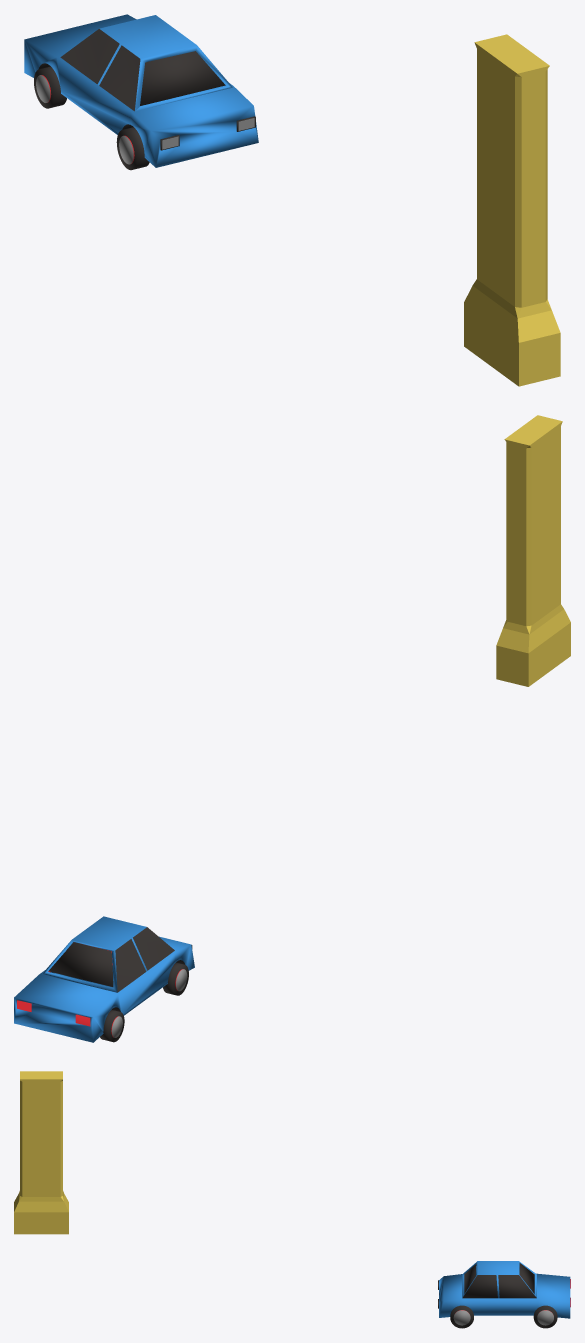
File: BlueCarGarageColuna.fbx
The picture shows the model from 3 angles, top to bottom: view 1: azimuth 30°, elevation 25°; view 2: azimuth 150°, elevation 25°; view 3: azimuth 270°, elevation 25°; orthographic projection. The views are drawn at different scales.
Visible parts, largest first — view 1: Cube.001, Cubo; view 2: Cube.001, Cubo; view 3: Cube.001, Cubo.
Boxes of the visible parts, box(x1,y1,x2,y2) form: Cube.001: box(464, 34, 560, 386); Cubo: box(24, 14, 258, 170); Cube.001: box(496, 415, 570, 686); Cubo: box(14, 916, 194, 1042); Cube.001: box(14, 1071, 68, 1234); Cubo: box(438, 1261, 570, 1328).
Size of what is drawn, in the model's own units: 1398 by 3381 by 7879.
